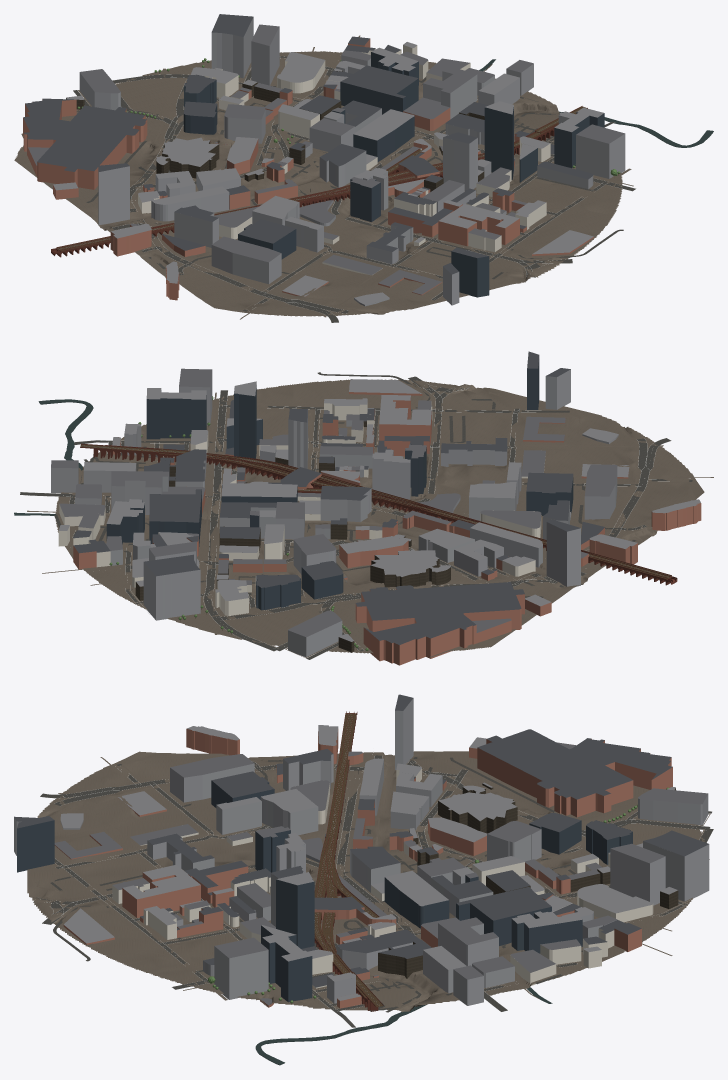
Rendered from barclay_surroundings_mobile_v2.glb.
3 renders of one model, top to bottom at view 1: azimuth 30°, elevation 25°; view 2: azimuth 150°, elevation 25°; view 3: azimuth 270°, elevation 25°, orthographic. The views are drawn at different scales.
Parts seen in each view (by area): view 1: Terrain_EA_DTM, bldg_30089216, bldg_23112318, bldg_30927973, road_3697914, bldg_31177215, viaduct_31178960_arch, bldg_31176345, viaduct_31178960_deck, kerb_3697914, canal_28047773; view 2: Terrain_EA_DTM, bldg_30089216, bldg_23112318, bldg_30927973, road_3697914, bldg_31177215, viaduct_31178960_arch, bldg_31176345, viaduct_31178960_deck, kerb_3697914, canal_28047773; view 3: Terrain_EA_DTM, bldg_30089216, bldg_23112318, bldg_30927973, road_3697914, bldg_31177215, viaduct_31178960_deck, bldg_31176345, viaduct_31178960_arch, kerb_3697914, canal_28047773.
Part boxes in pixels (x1,y1,x2,y2): Terrain_EA_DTM: (14,35,633,319); bldg_30089216: (28,17,625,306); bldg_23112318: (23,14,593,300); bldg_30927973: (53,42,604,304); road_3697914: (73,56,635,322); bldg_31177215: (138,45,554,275); viaduct_31178960_arch: (51,106,587,257); bldg_31176345: (66,70,484,197); viaduct_31178960_deck: (56,106,586,251); kerb_3697914: (73,56,633,322); canal_28047773: (479,59,713,147); Terrain_EA_DTM: (27,379,713,657); bldg_30089216: (51,368,618,657); bldg_23112318: (73,351,701,665); bldg_30927973: (59,359,700,641); road_3697914: (20,372,692,659); bldg_31177215: (58,401,545,615); viaduct_31178960_arch: (80,443,677,585); bldg_31176345: (135,421,450,652); viaduct_31178960_deck: (80,444,671,579); kerb_3697914: (22,380,690,659); canal_28047773: (14,399,581,585); Terrain_EA_DTM: (27,751,710,1012); bldg_30089216: (14,698,709,1005); bldg_23112318: (14,694,708,1008); bldg_30927973: (17,725,677,1002); road_3697914: (33,755,713,1027); bldg_31177215: (112,768,653,988); viaduct_31178960_deck: (314,713,382,1007); bldg_31176345: (325,783,678,978); viaduct_31178960_arch: (314,711,383,1011); kerb_3697914: (33,756,713,1027); canal_28047773: (255,987,552,1065).
Bounding box in the file's own units: 945 × 97.77 × 814.
20 materials, 4 textured.
